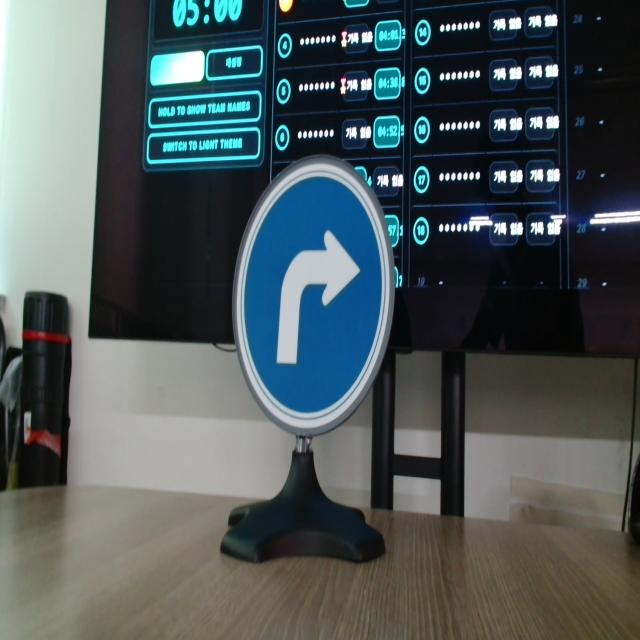right_dierection: (230, 150, 396, 443)
